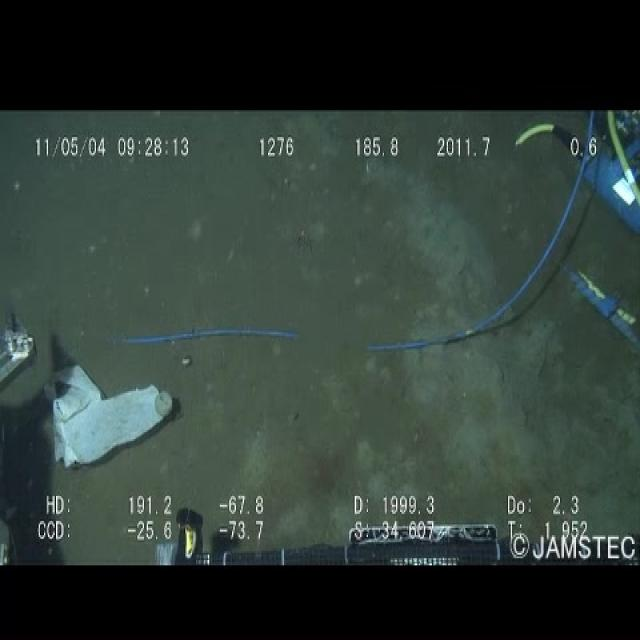plastic: (33, 358, 179, 468)
